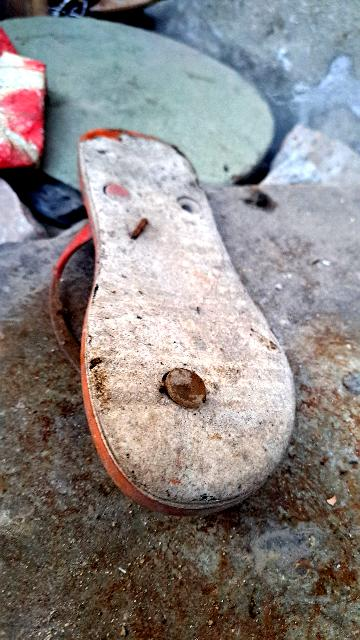sandal: (33, 130, 298, 521)
